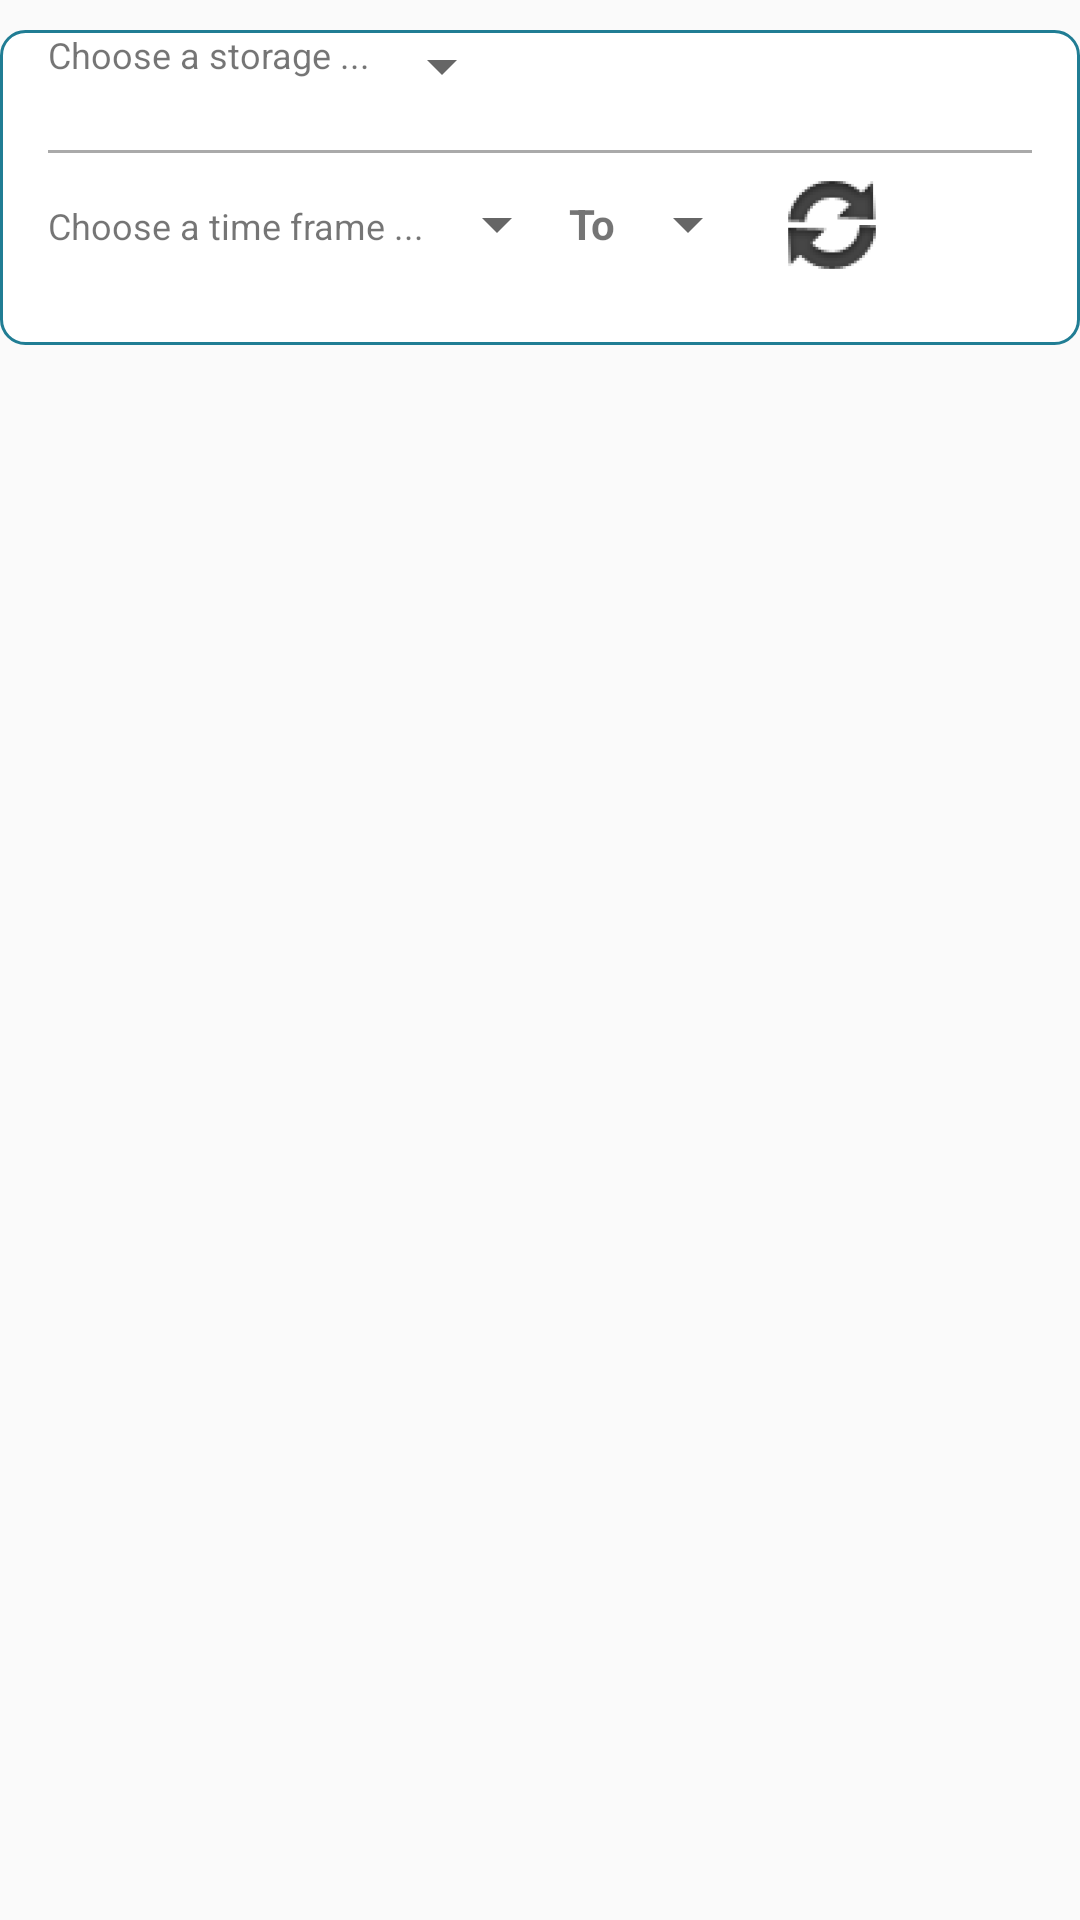

Icon bounding boxes for this 1080 x 1920 phone screenshot, format box(x1, y1, x2, y2):
refresh: box(788, 181, 876, 269)
